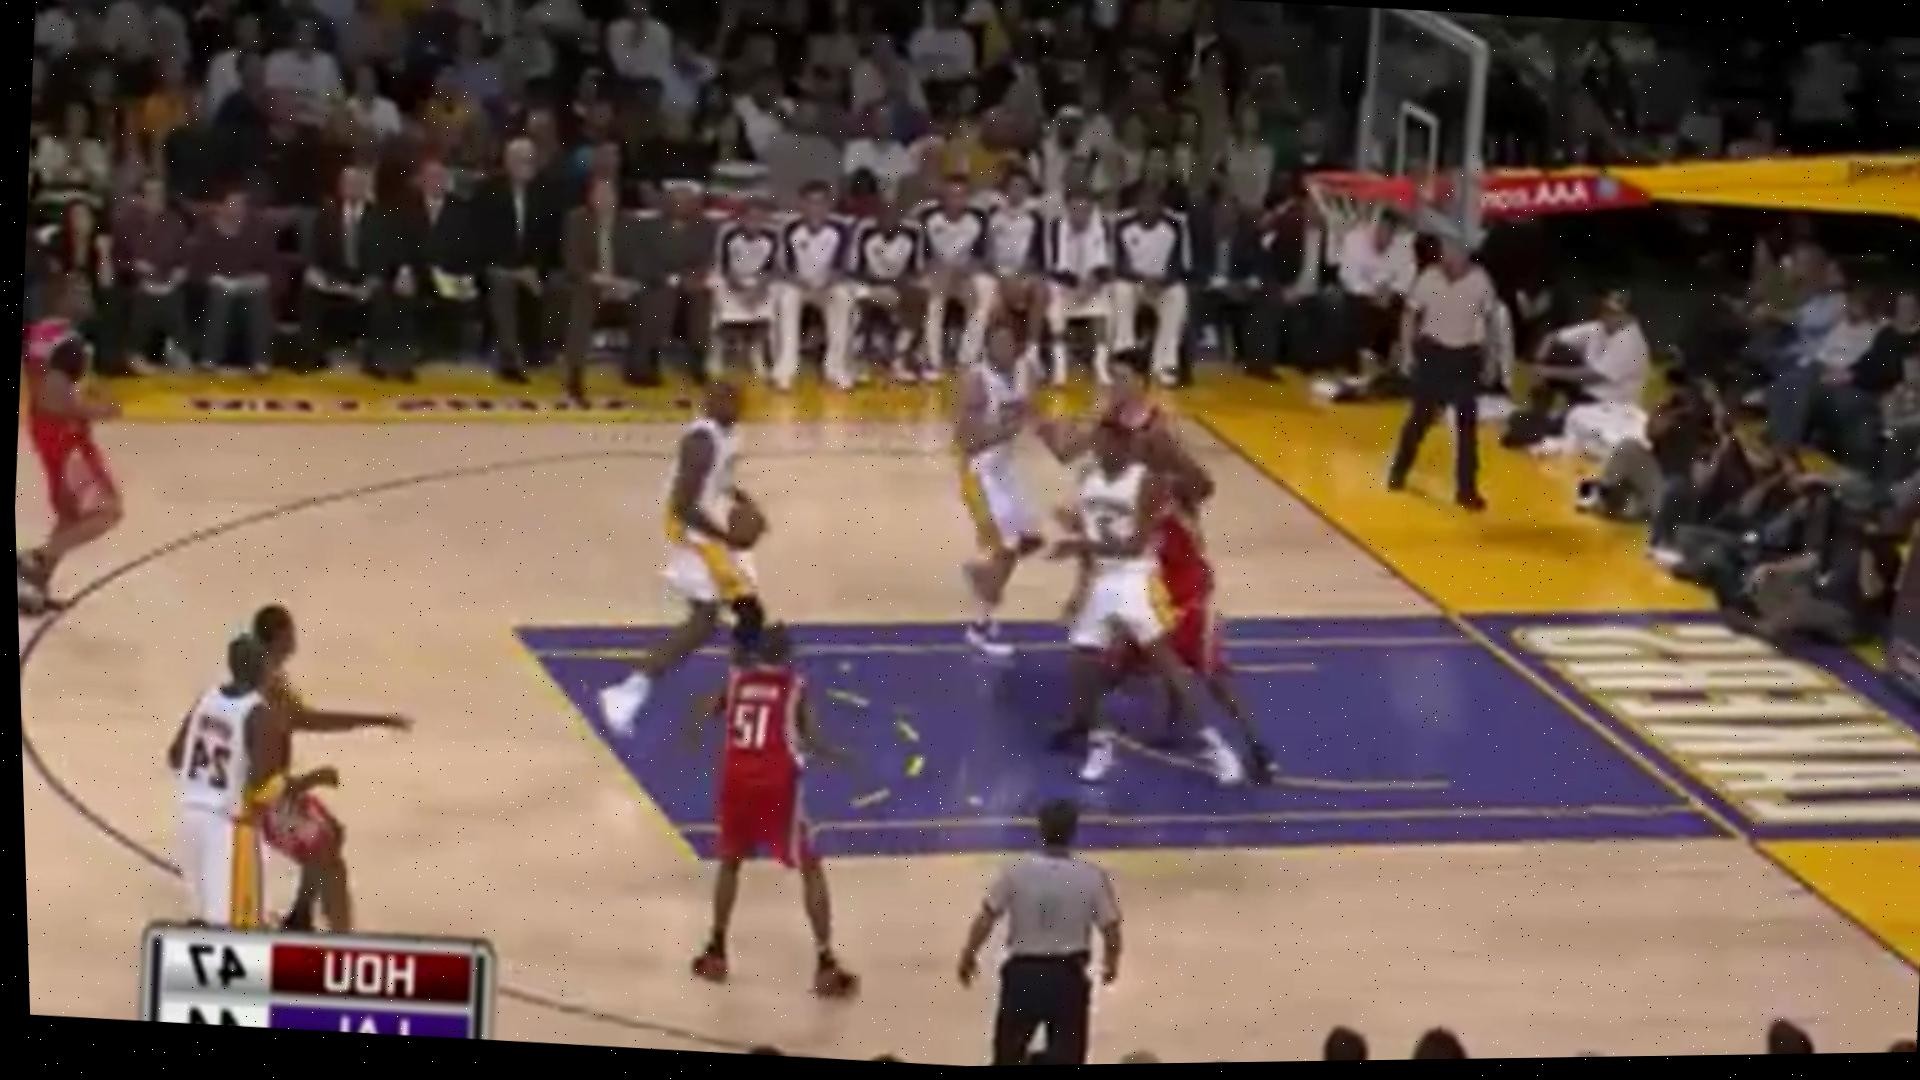no_foul: (1039, 413, 1225, 785)
